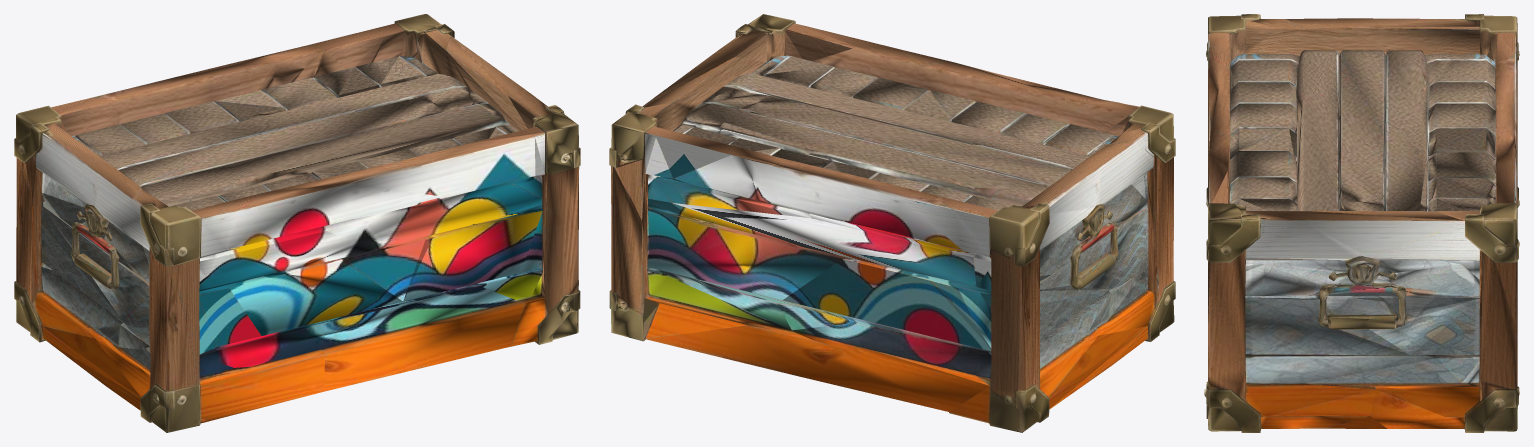
Rendered from fv_mystery_box.glb.
3 views of the same model, side by side, from view 1: azimuth 30°, elevation 25°; view 2: azimuth 150°, elevation 25°; view 3: azimuth 270°, elevation 25° (orthographic).
Parts seen in each view (by area): view 1: body, lid; view 2: body, lid; view 3: lid, body.
Boxes of the visible parts, left/top/right/bottom form: body: left=14, top=158, right=580, bottom=432; lid: left=14, top=14, right=580, bottom=266; body: left=609, top=156, right=1175, bottom=432; lid: left=609, top=14, right=1175, bottom=289; lid: left=1206, top=14, right=1519, bottom=308; body: left=1204, top=63, right=1519, bottom=432.
Bounding box in the file's own units: 1.3 × 0.6242 × 0.8329.
Materials: 1 (1 with a texture image).
